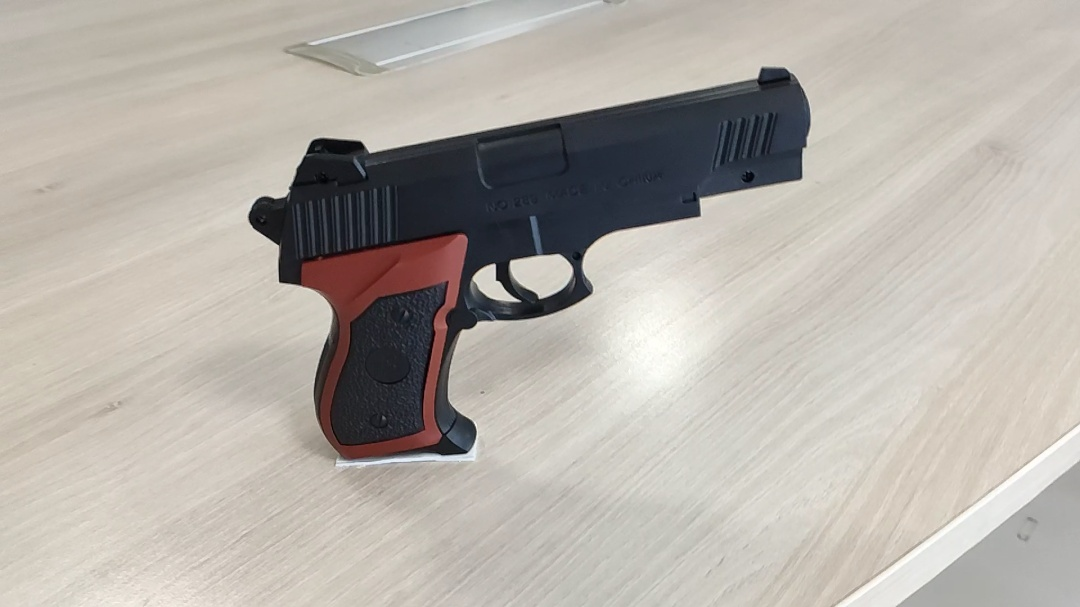gun: (245, 65, 812, 466)
